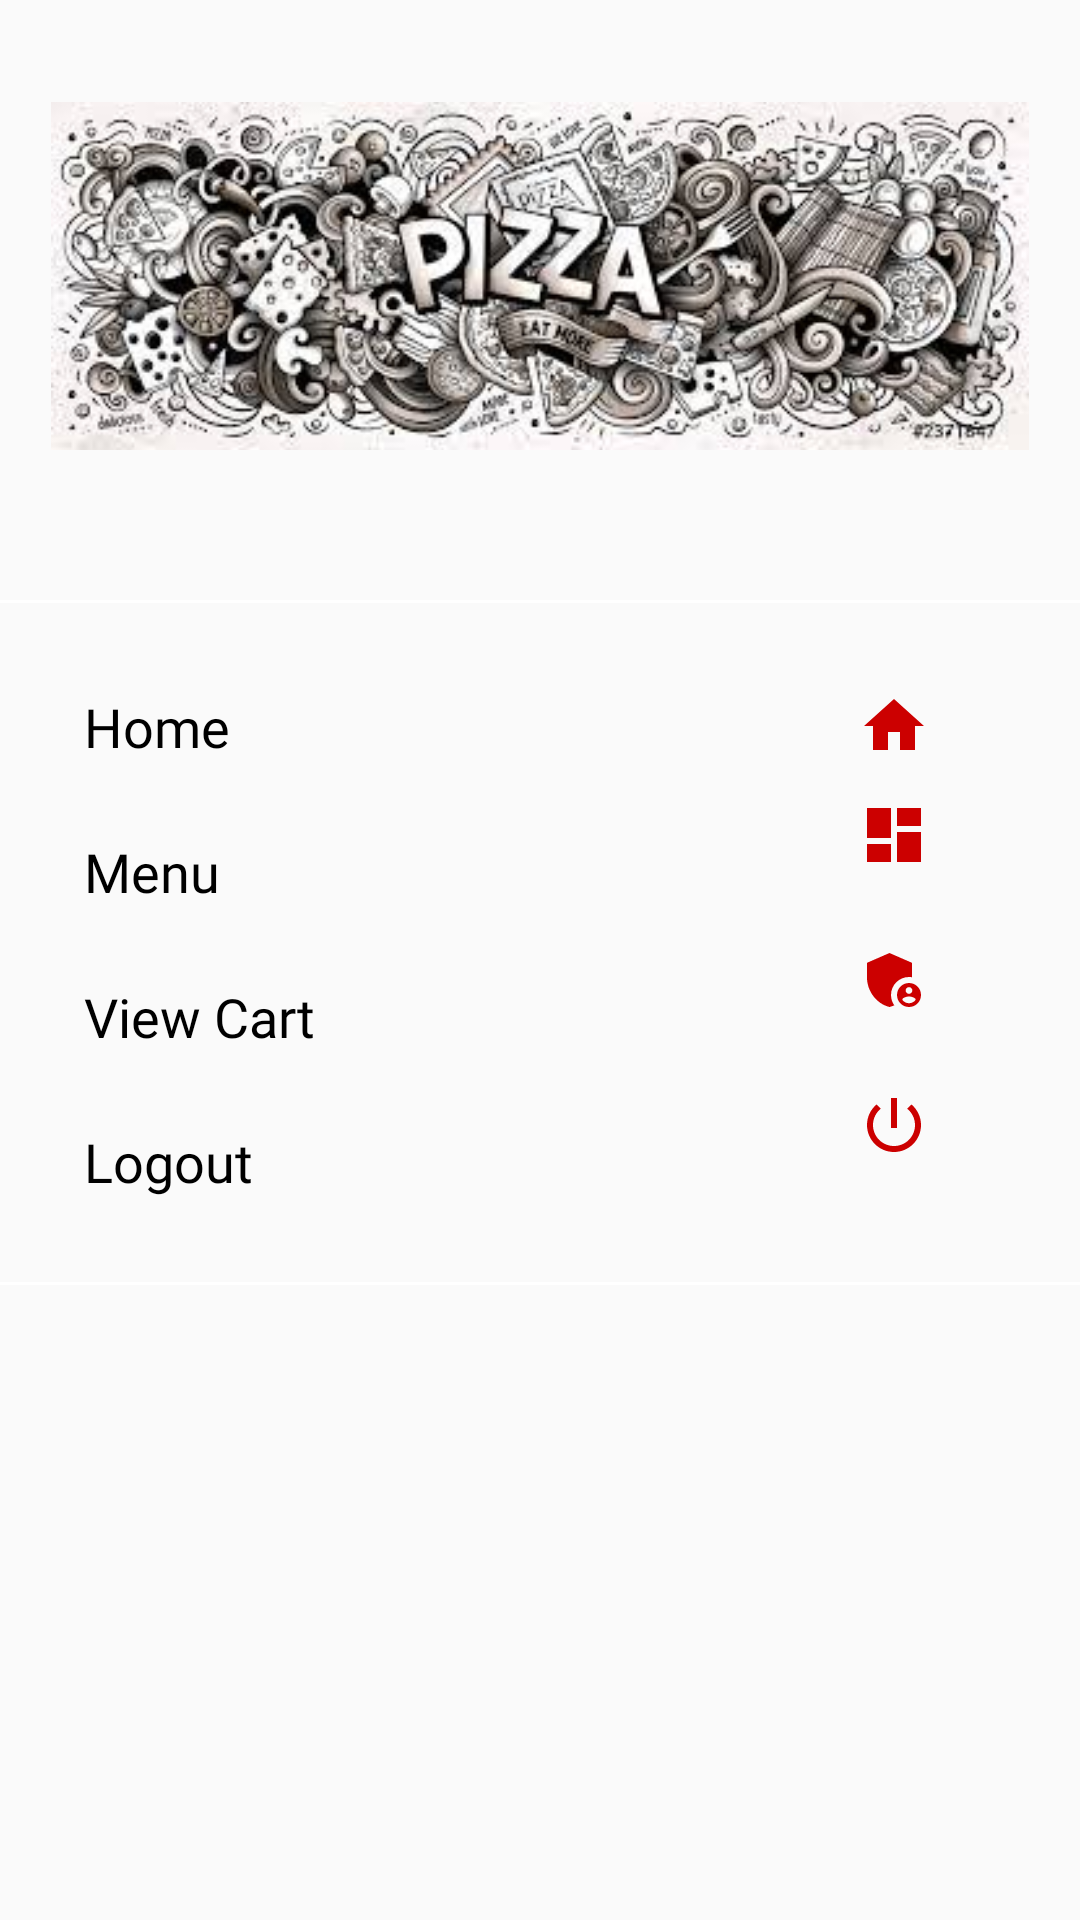

Named icons in this screenshot (1080*1920) and their bounding boxes, [x1=x1, y1=y1, x2=x2, y2=y2]:
admin panel settings: [x1=867, y1=953, x2=921, y2=1007]
dashboard: [x1=867, y1=808, x2=921, y2=862]
power settings: [x1=867, y1=1098, x2=921, y2=1152]
